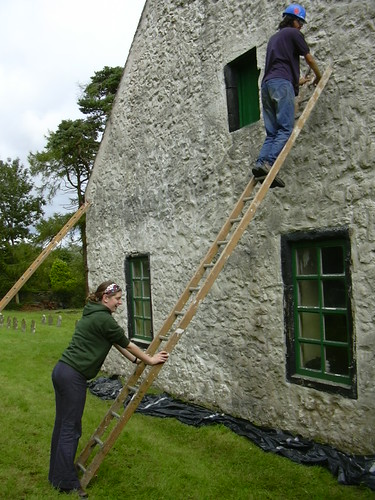person hardhat: (260, 2, 318, 194)
